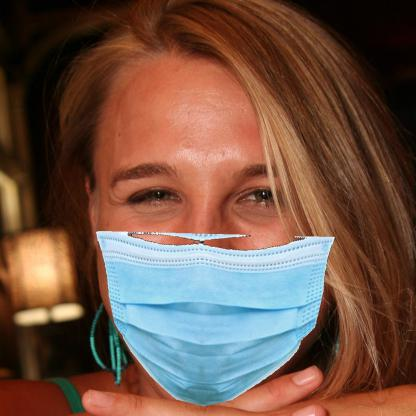Correctly_Masked: (84, 46, 335, 407)
